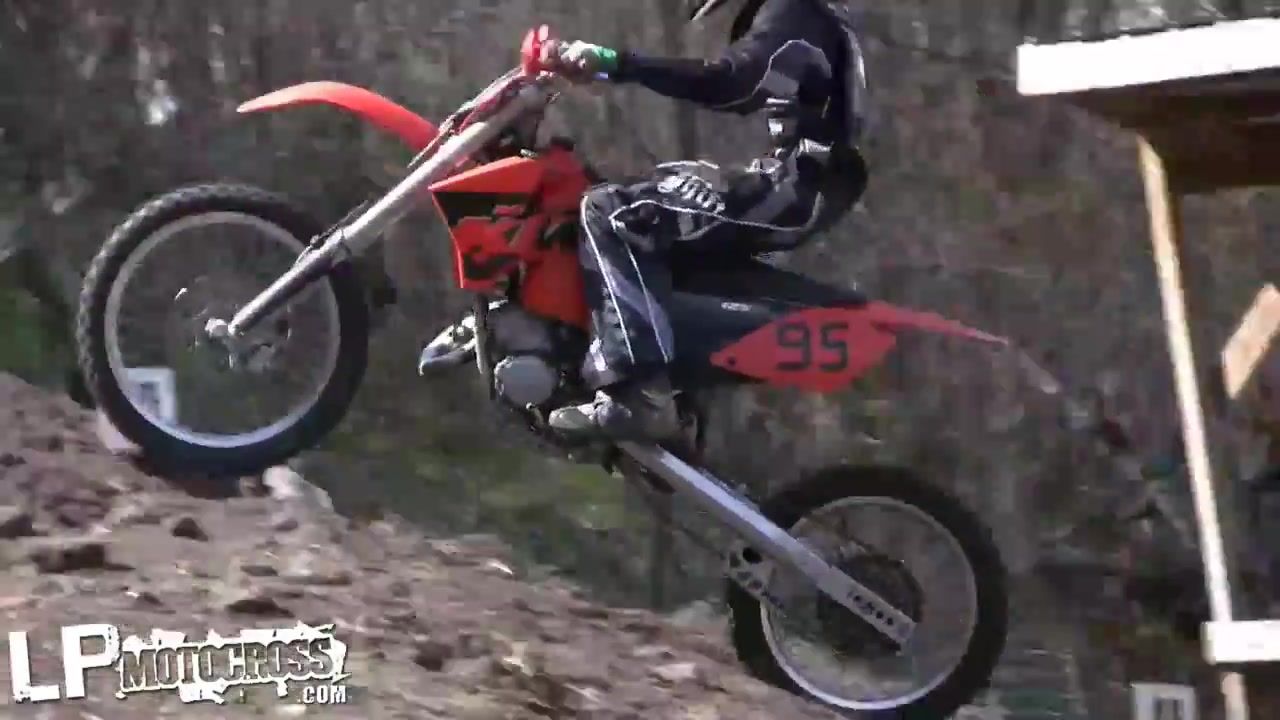motorbike: (71, 24, 1016, 719)
